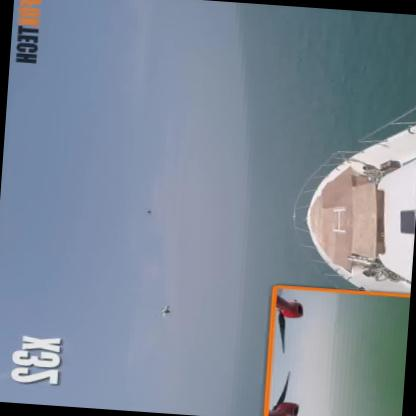drone: (156, 301, 177, 321)
